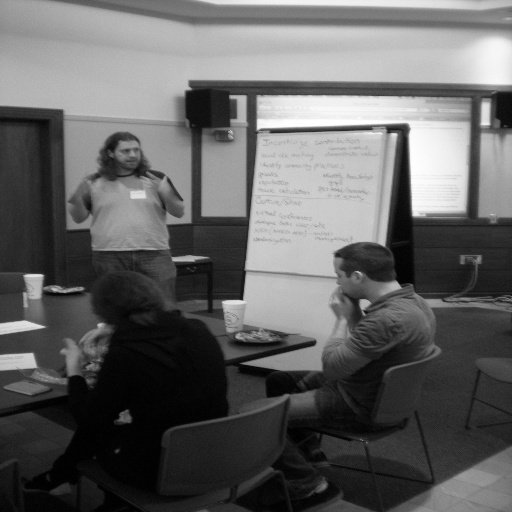hand: (60, 336, 91, 364), (329, 285, 353, 316), (77, 330, 113, 350), (139, 168, 167, 190), (71, 177, 91, 195), (344, 294, 360, 305)
